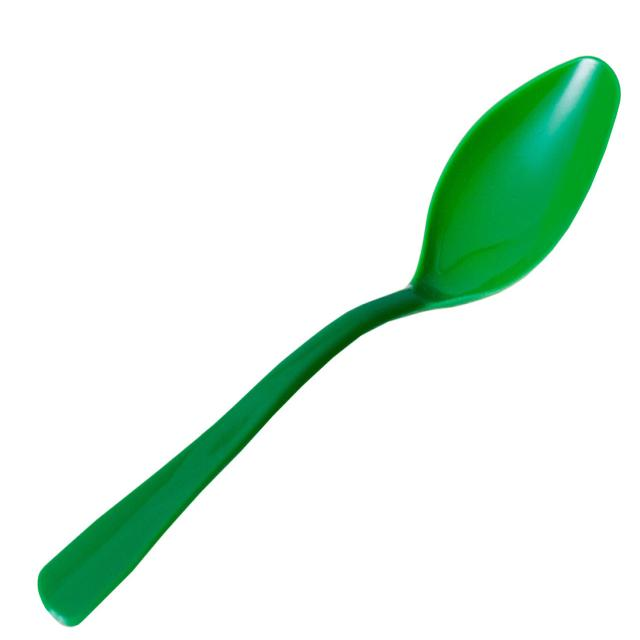spoon: (33, 49, 625, 640)
